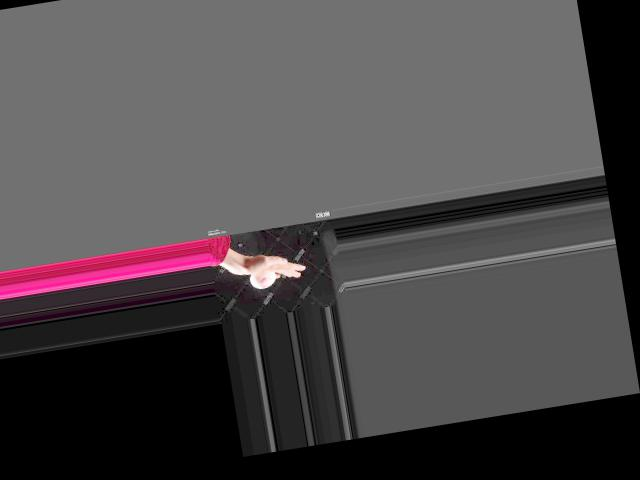egg: (248, 269, 276, 290)
